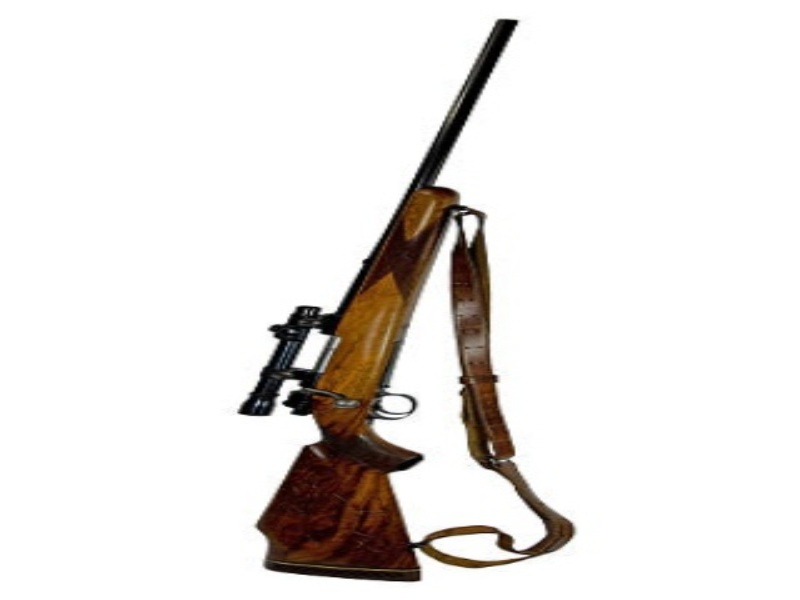weapon: (236, 20, 577, 582)
